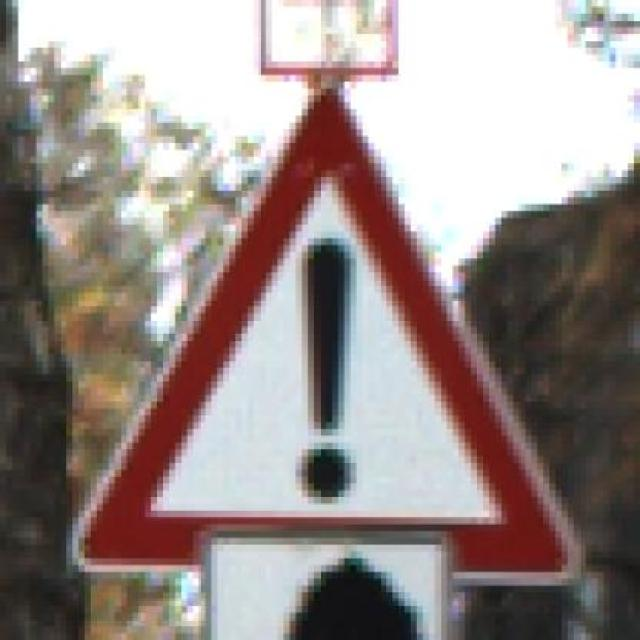Attention Please-: (59, 82, 590, 587)
